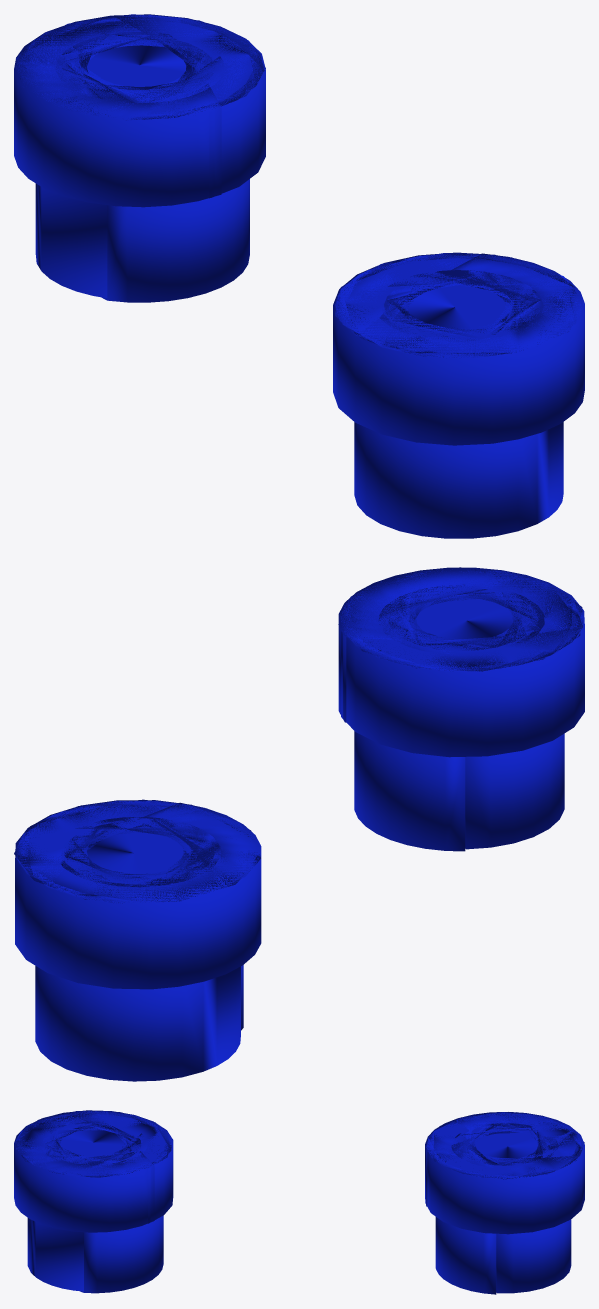
File: tuyeau_element_000064.obj
3 views of the same model, one above another, from view 1: azimuth 30°, elevation 25°; view 2: azimuth 150°, elevation 25°; view 3: azimuth 270°, elevation 25° (orthographic). The views are drawn at different scales.
Visible parts, largest first — view 1: tuyeau1_Cube.014, tuyeau2_Cube.017; view 2: tuyeau2_Cube.017, tuyeau1_Cube.014; view 3: tuyeau2_Cube.017, tuyeau1_Cube.014.
Part boxes in pixels (left/top/right/bottom): tuyeau1_Cube.014: left=14, top=14, right=265, bottom=302; tuyeau2_Cube.017: left=333, top=252, right=584, bottom=538; tuyeau2_Cube.017: left=338, top=567, right=584, bottom=851; tuyeau1_Cube.014: left=14, top=799, right=261, bottom=1081; tuyeau2_Cube.017: left=14, top=1110, right=173, bottom=1293; tuyeau1_Cube.014: left=425, top=1112, right=584, bottom=1294.
Bounding box in the file's own units: 3605 × 2917 × 12595.
